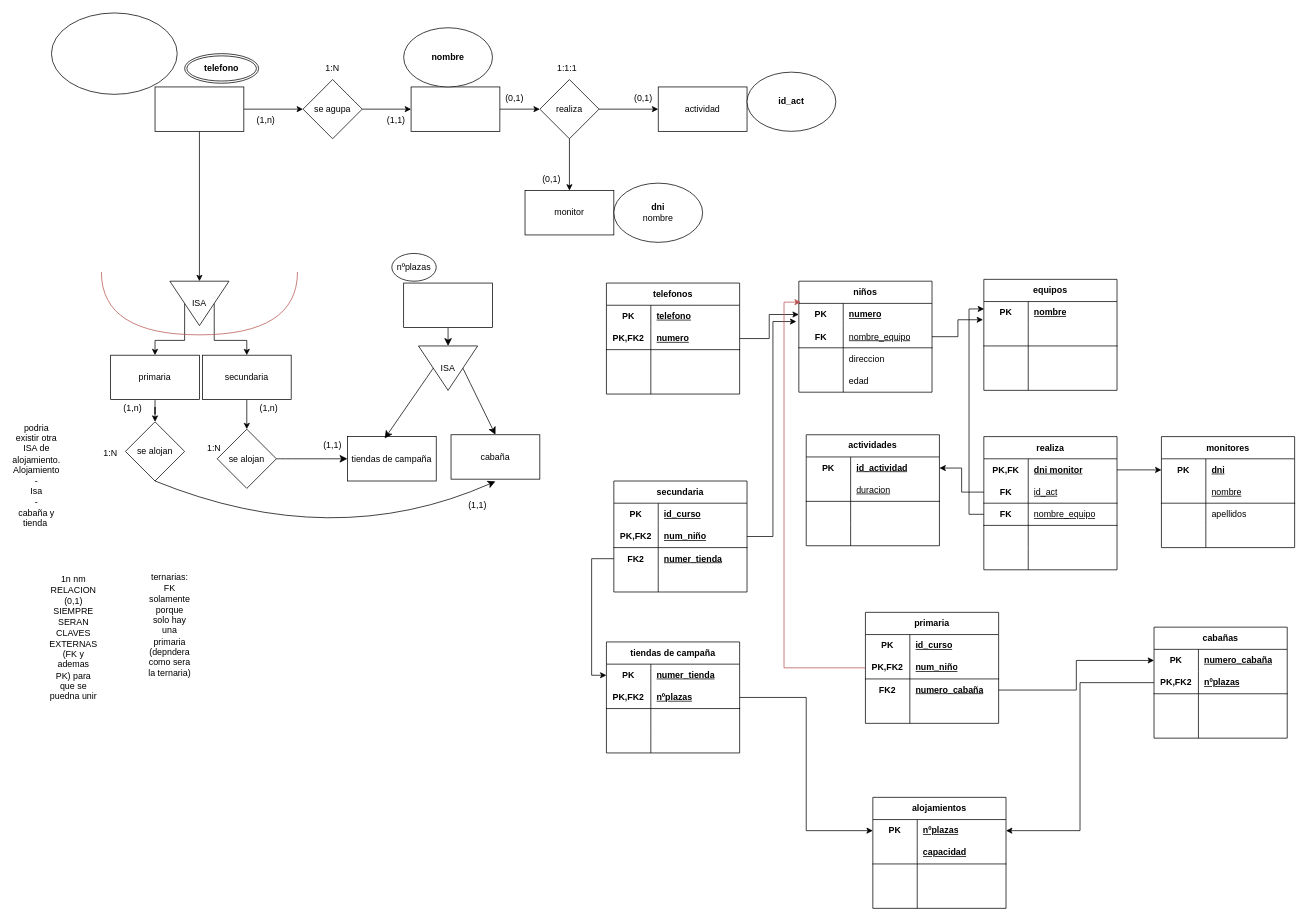
Image size: 1308x921. Some labels were removed from this diagram. Here are the shapes that lost their labels. From the top down, the centre of each, then its label:
At point (114, 53): "nombre apellidos edad dirección nombre de sus padres tipo enseñanza".
At point (199, 108): "niño".
At point (455, 108): "equipo".
At point (447, 304): "alojamiento".
